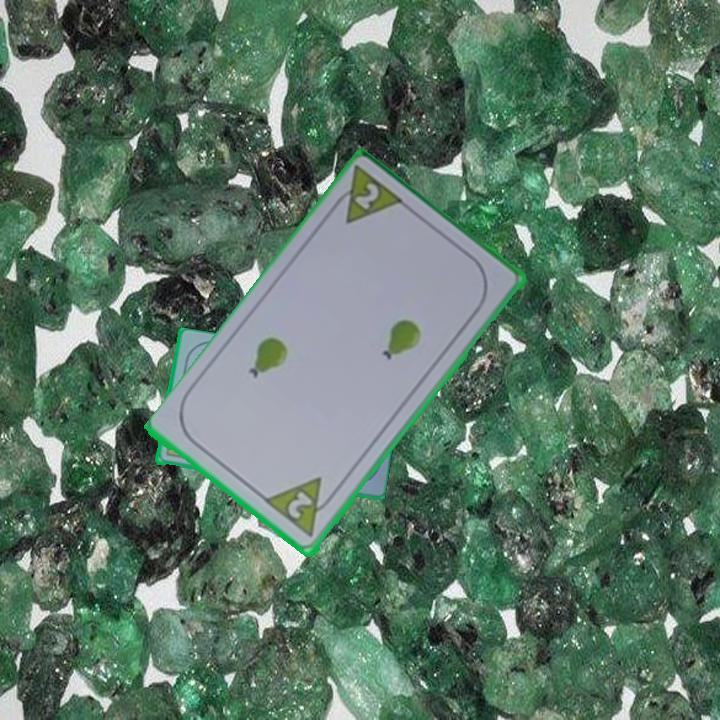2p: (325, 163, 408, 229), (283, 488, 316, 523)
